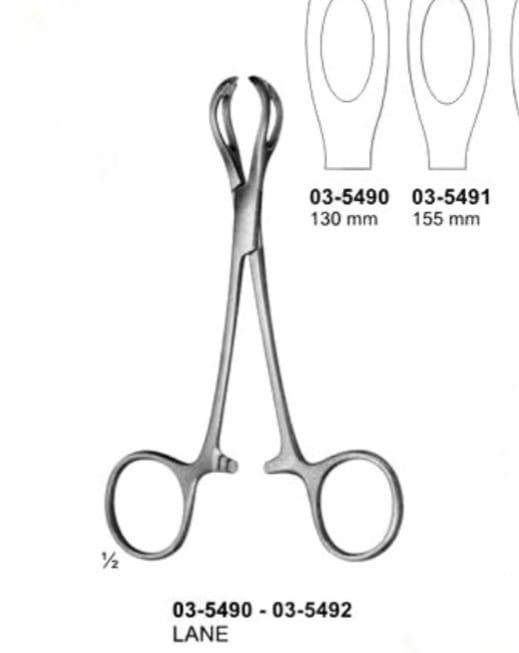Lane Tissue Forceps: (97, 65, 410, 562)
